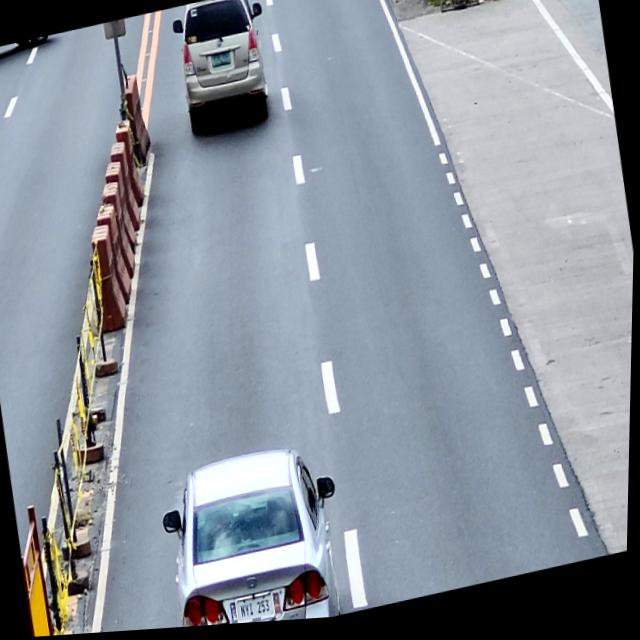Car: (156, 439, 359, 631), (168, 0, 280, 142)
License-Plate: (239, 597, 278, 626), (212, 54, 232, 71)
